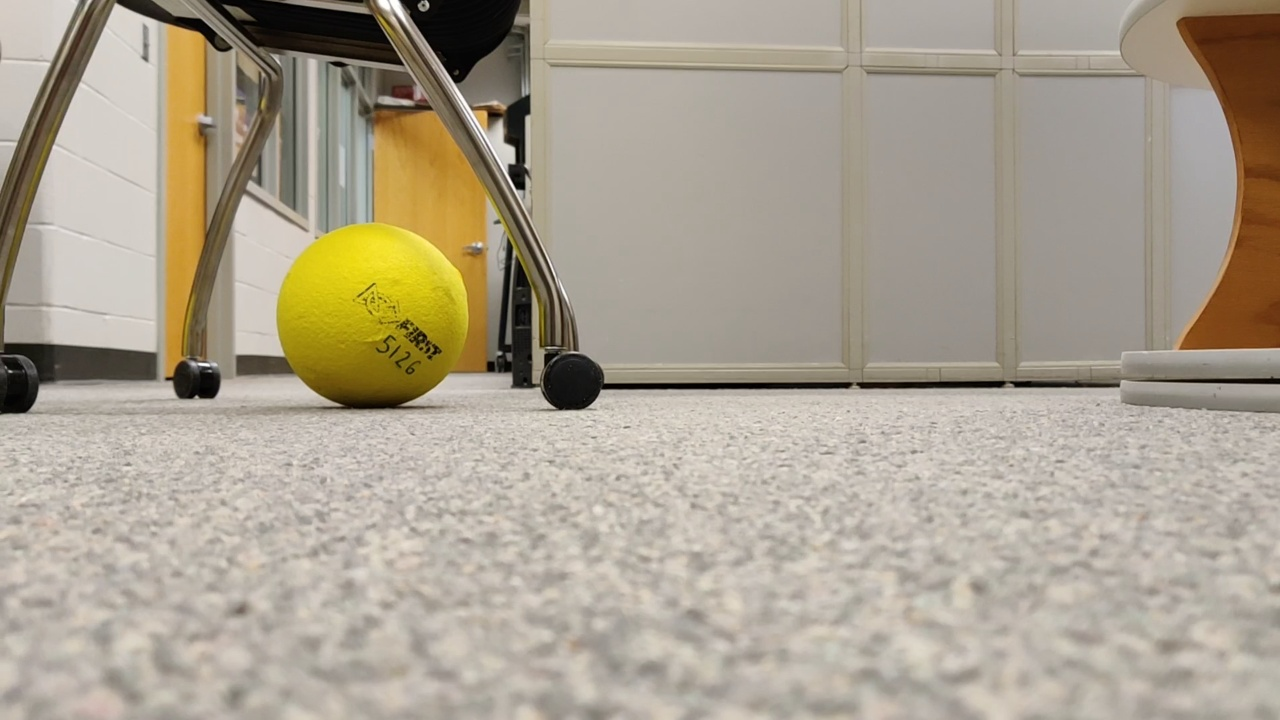Ball: (275, 221, 473, 415)
